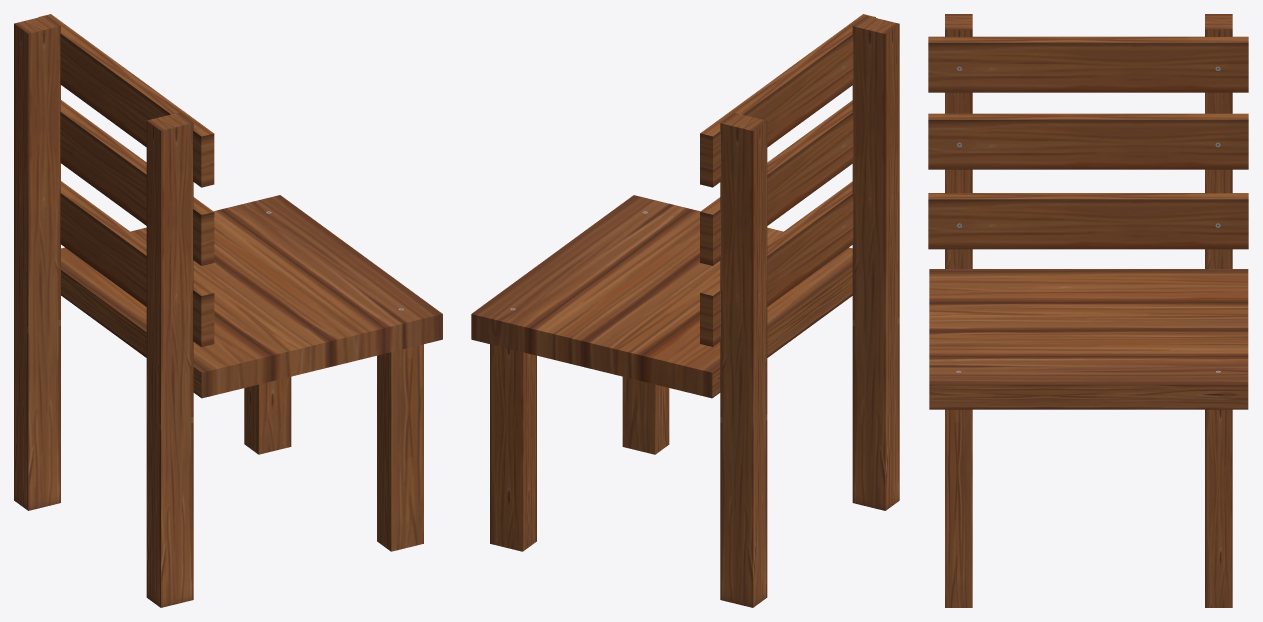
File: Chair.fbx
3 views of the same model, side by side, from view 1: azimuth 30°, elevation 25°; view 2: azimuth 150°, elevation 25°; view 3: azimuth 270°, elevation 25° (orthographic).
Visible parts, largest first — view 1: Chair_Dark Wood_0; view 2: Chair_Dark Wood_0; view 3: Chair_Dark Wood_0.
Boxes of the visible parts, x1,y1,x2,y2 form: Chair_Dark Wood_0: [14, 14, 442, 607]; Chair_Dark Wood_0: [471, 14, 899, 607]; Chair_Dark Wood_0: [928, 14, 1248, 607].
Bounding box in the file's own units: 105 × 174 × 108.
